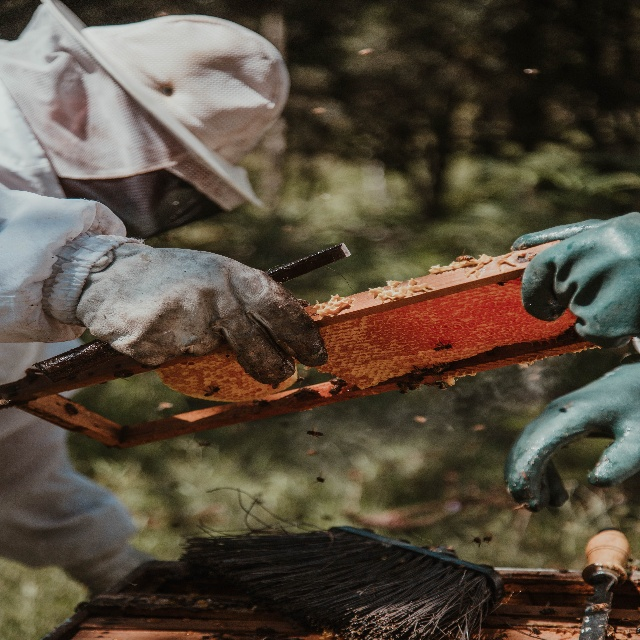Guantes: (42, 232, 328, 386), (500, 371, 640, 509), (511, 218, 640, 353)
